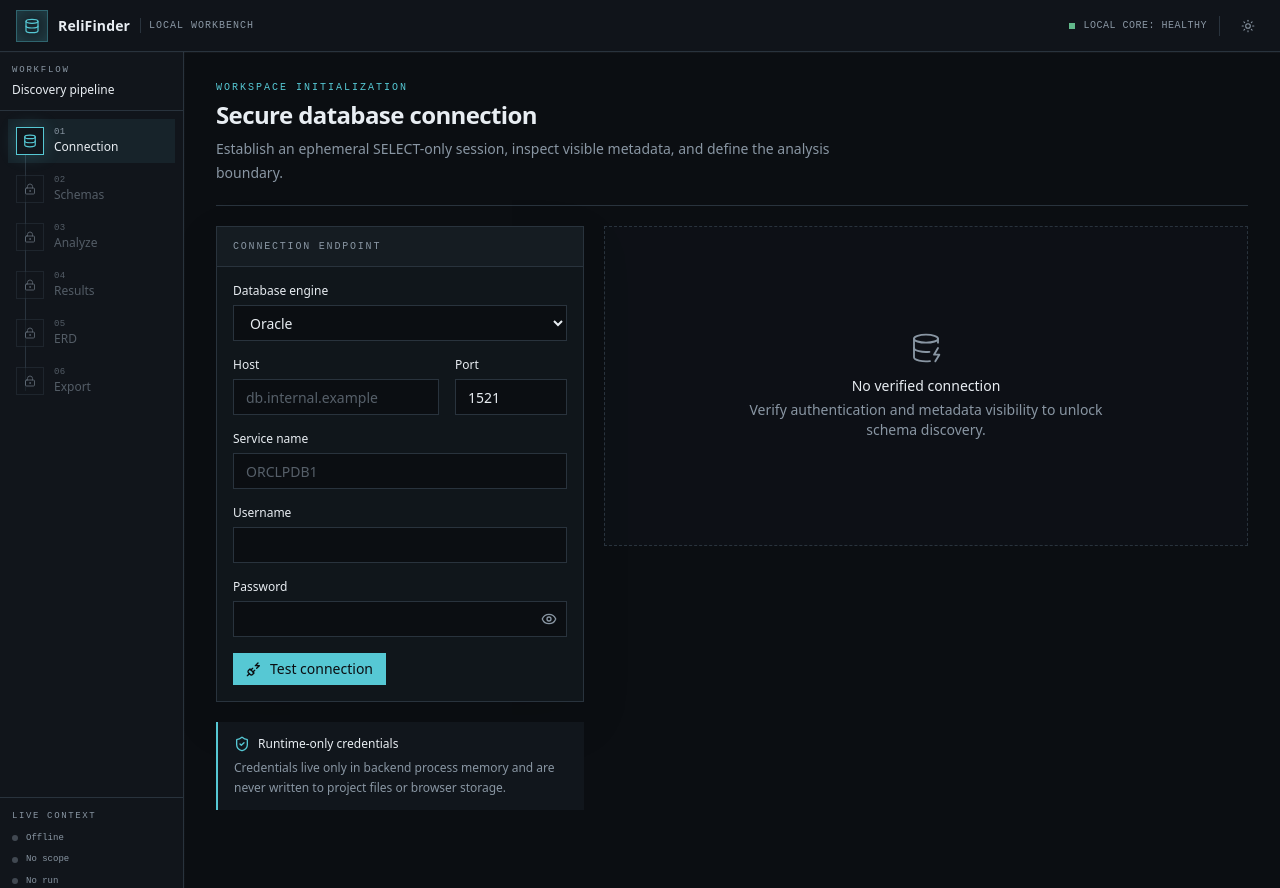
Test case: secure connection and schema workflow › renders capabilities and schemas without persisting the password
The width and height of the screenshot is (1280, 888).
Type "db.example.invalid" into the field labelled "Host" at (336, 397), box [233,379,439,415]
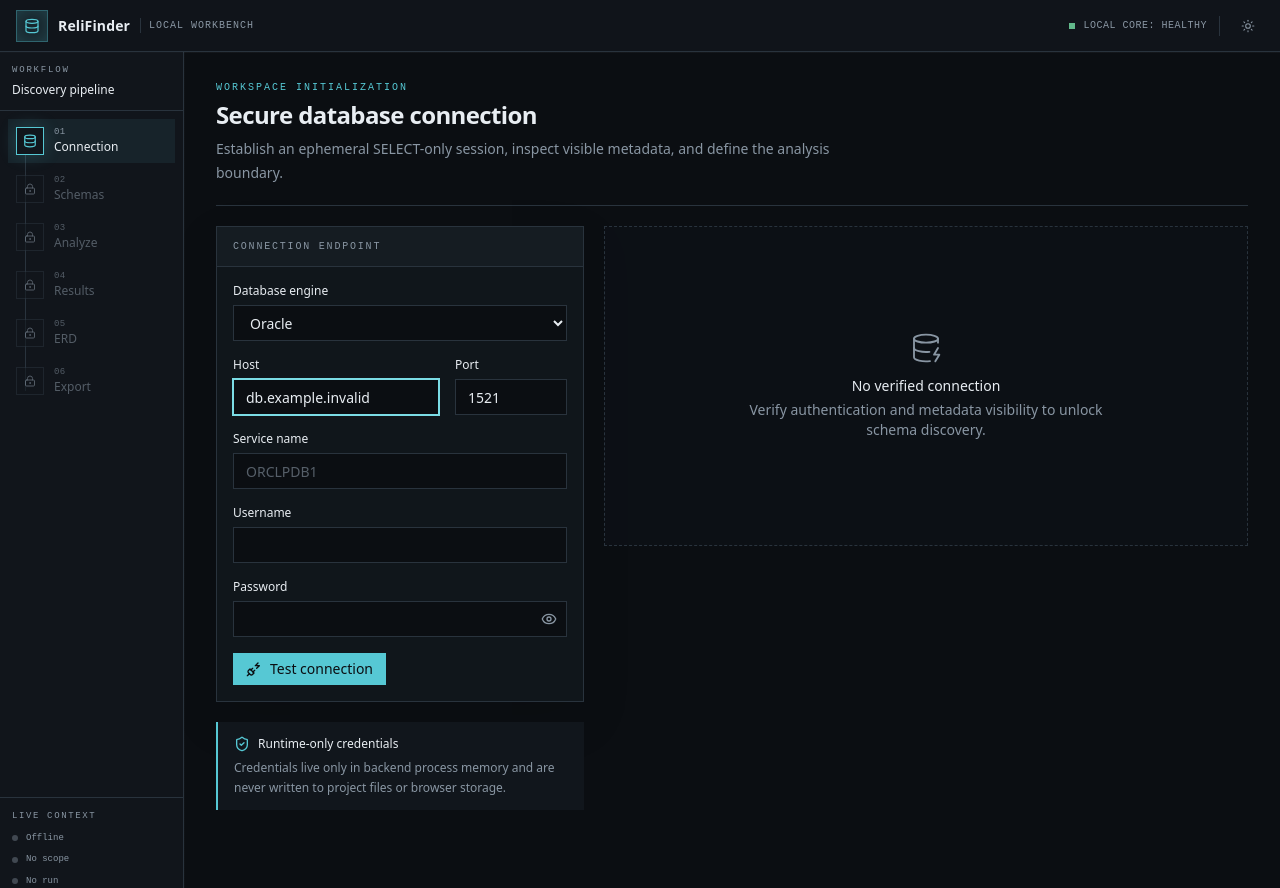
Type "FAKE_SERVICE" into the field labelled "Service name" at (400, 471), box [233,453,567,489]
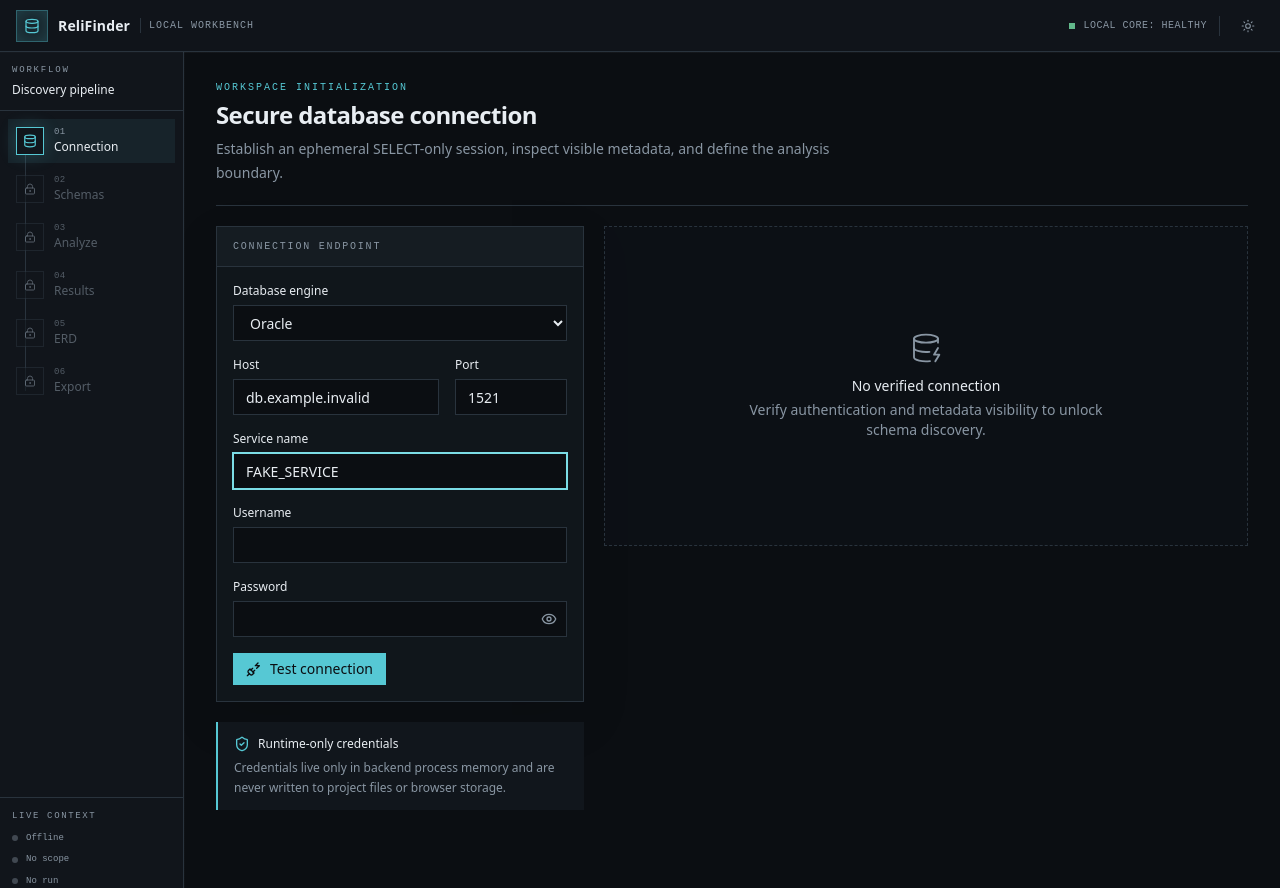
Type "FAKE_USER" into the field labelled "Username" at (400, 545), box [233,527,567,563]
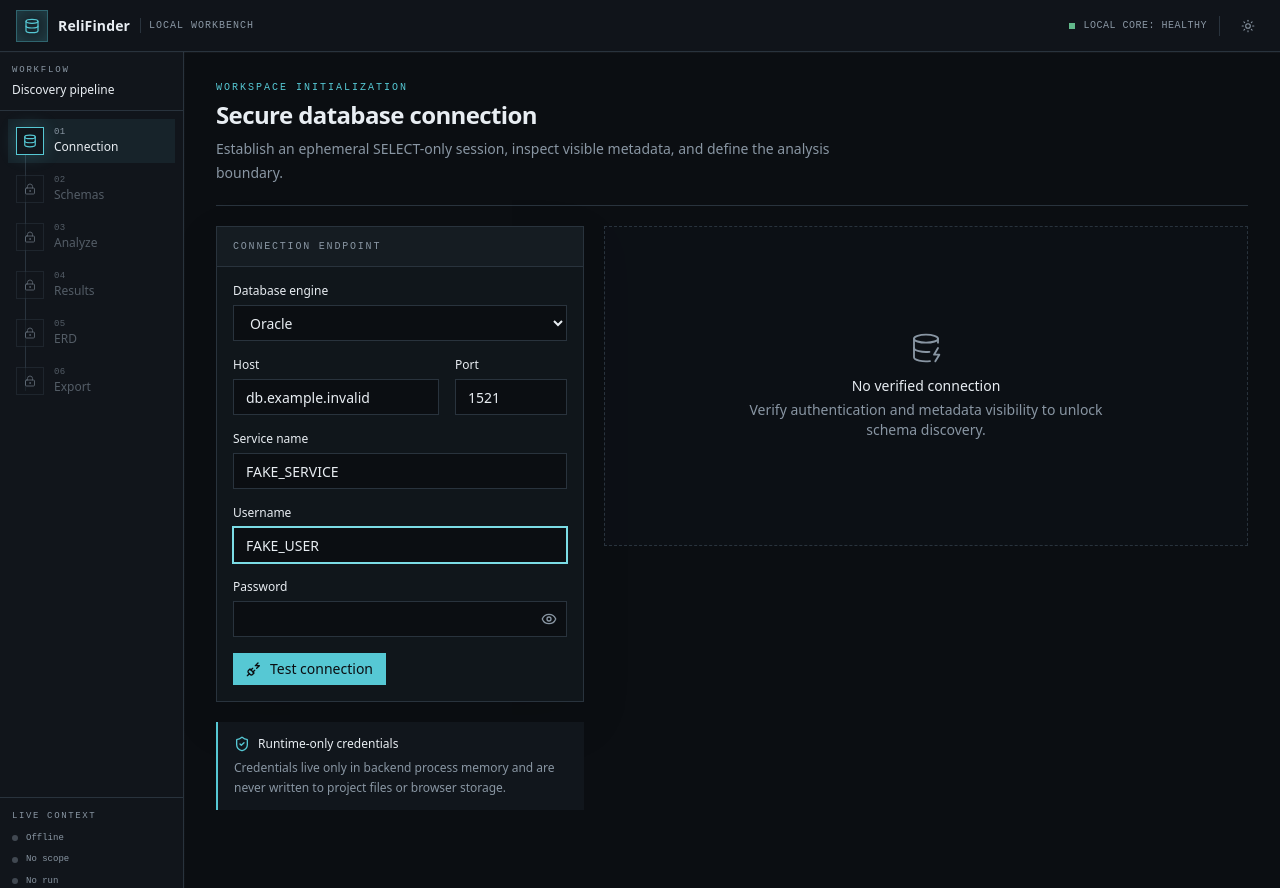
Type "fake-browser-password-9Z!" into the password field labelled "Password" at (400, 619), box [233,601,567,637]
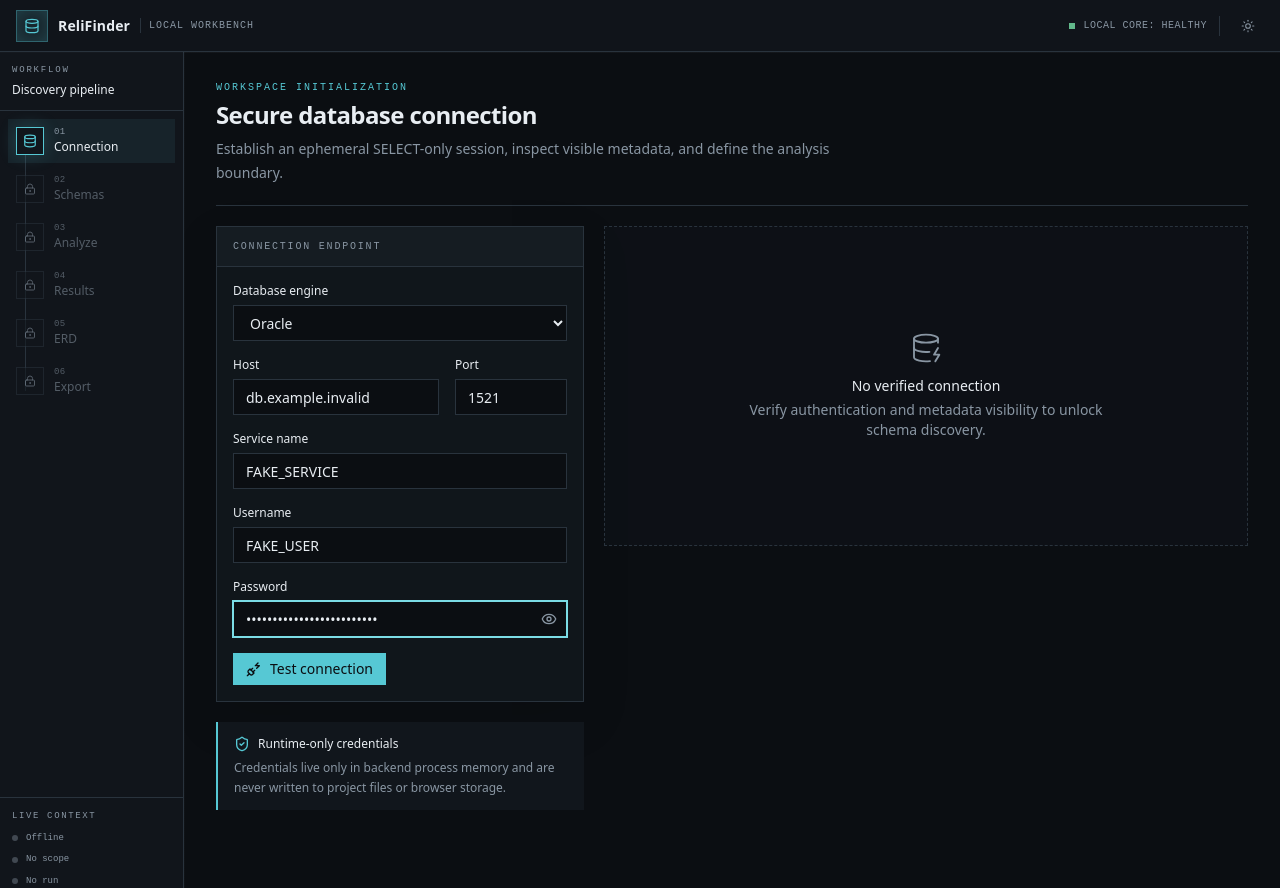
Click the button "Test connection" at (310, 669), box [233,653,386,685]
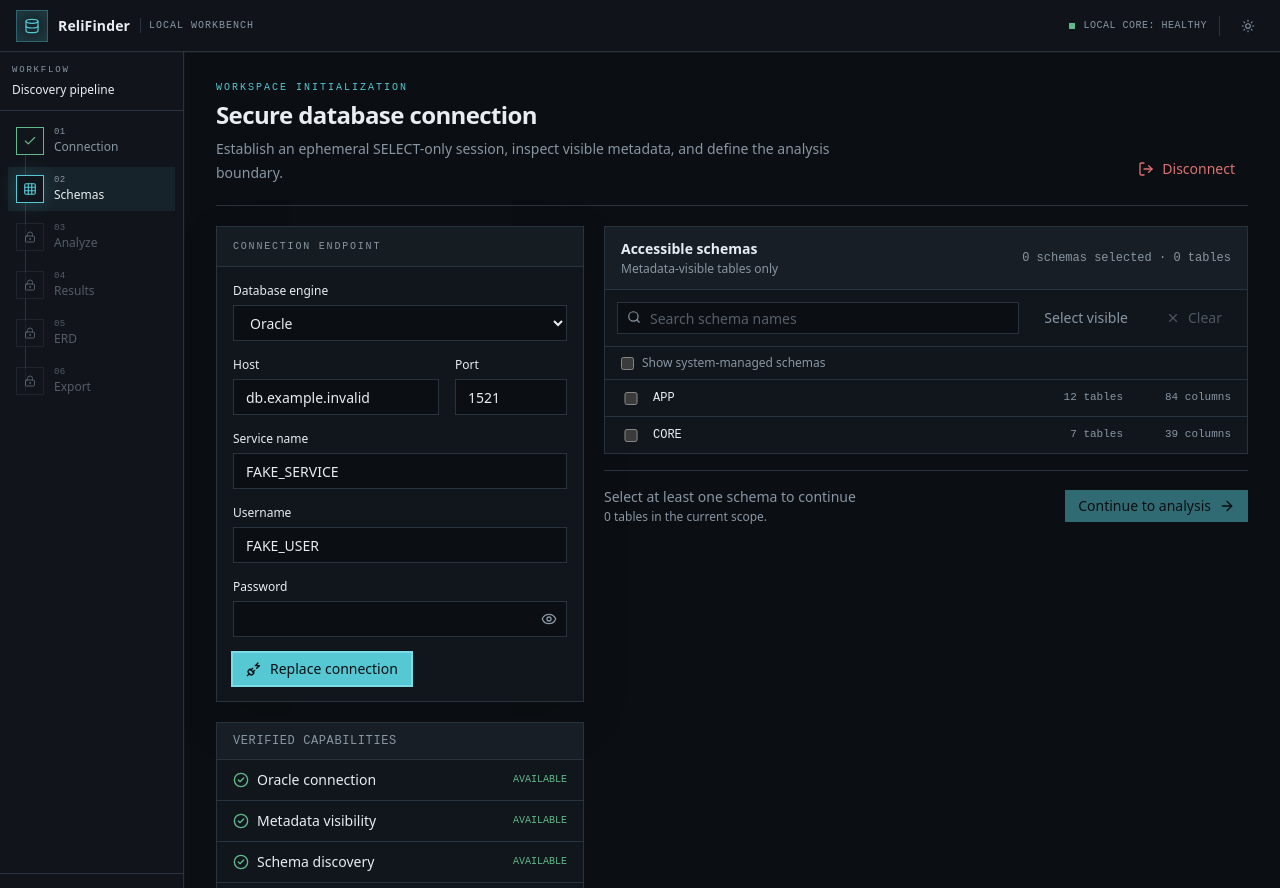
expect the heading "Accessible schemas" is shown: met, box [621,239,778,259]
expect the text "APP" is shown: met, box [653,391,675,405]
expect the text "CORE" is shown: met, box [653,428,682,442]
